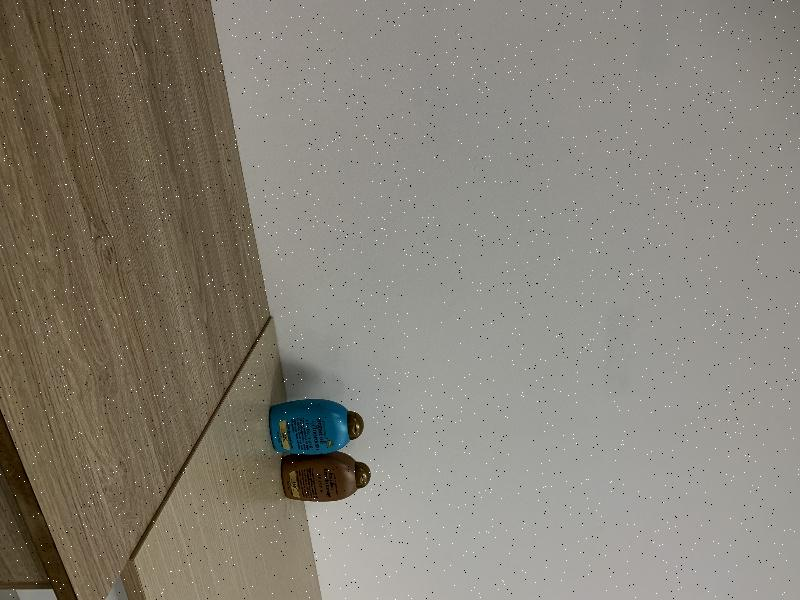ArganOilOfMorocco_Conditioner: (269, 398, 362, 454)
BrazilianKeratinTherapy_Shampoo: (280, 453, 370, 502)
